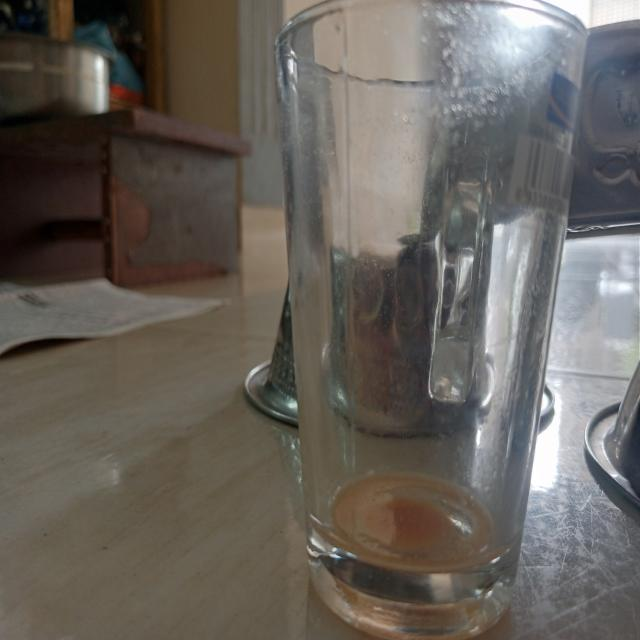glass-VX4N: (276, 0, 586, 640)
